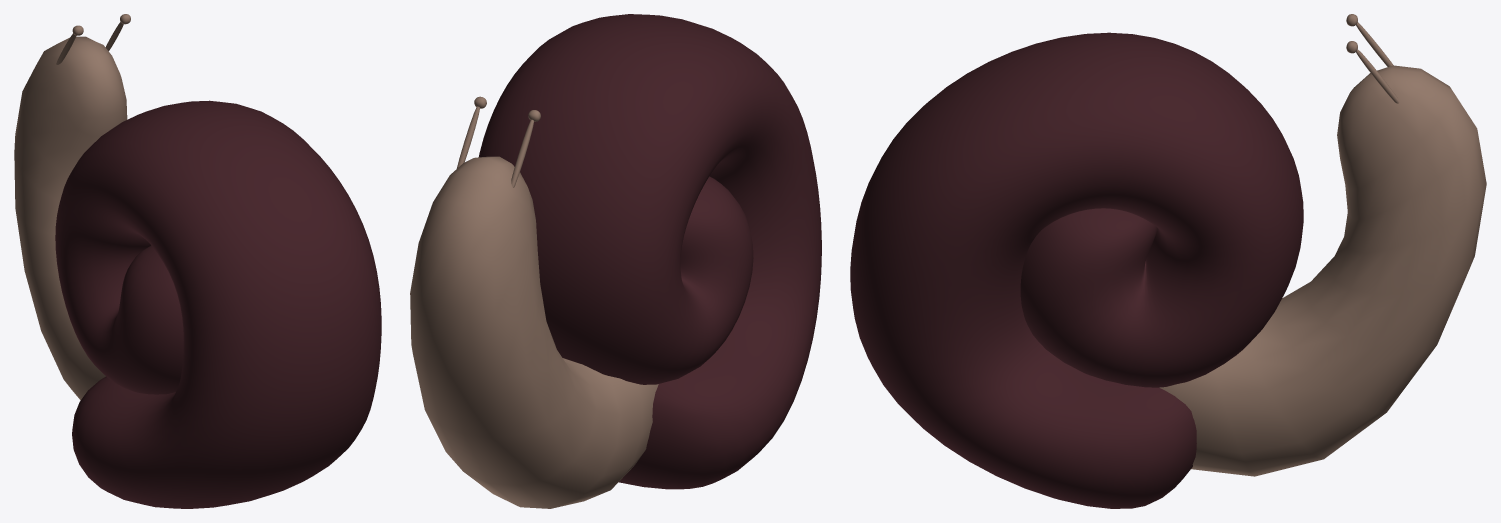
Rendered from Snail.fbx.
3 views of the same model, side by side, from view 1: azimuth 30°, elevation 25°; view 2: azimuth 150°, elevation 25°; view 3: azimuth 270°, elevation 25° (orthographic). The views are drawn at different scales.
Visible parts, largest first — view 1: snail shell, snail; view 2: snail shell, snail; view 3: snail shell, snail.
Boxes of the visible parts, x1,y1,x2,y2 form: snail shell: (55, 100, 381, 508); snail: (14, 14, 130, 400); snail shell: (479, 14, 821, 489); snail: (410, 96, 658, 508); snail shell: (850, 32, 1303, 508); snail: (1159, 14, 1486, 476).
Size of the model in its own units: 36.8 by 61.1 by 76.42.
